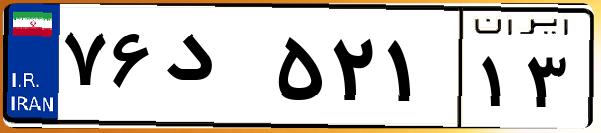1: (385, 28, 445, 110), (475, 38, 525, 113)
2: (330, 28, 385, 110)
3: (525, 38, 570, 115)
5: (270, 28, 330, 110)
6: (110, 28, 158, 98)
7: (57, 26, 110, 100)
د: (158, 20, 270, 120)
